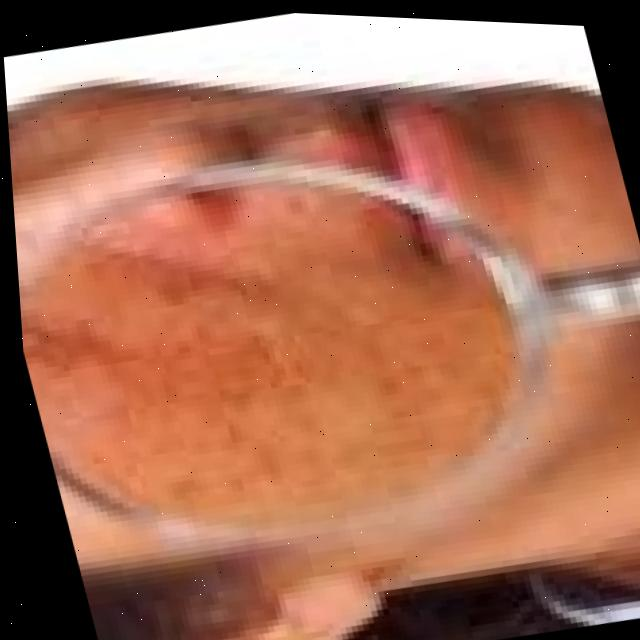Melasma: (79, 206, 408, 540)
